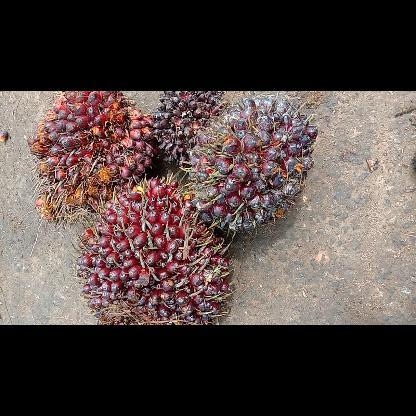Kurang masak: (72, 176, 236, 324), (187, 94, 319, 236)
TBS abnormal: (150, 91, 228, 171)
TBS masak: (26, 92, 158, 224)
